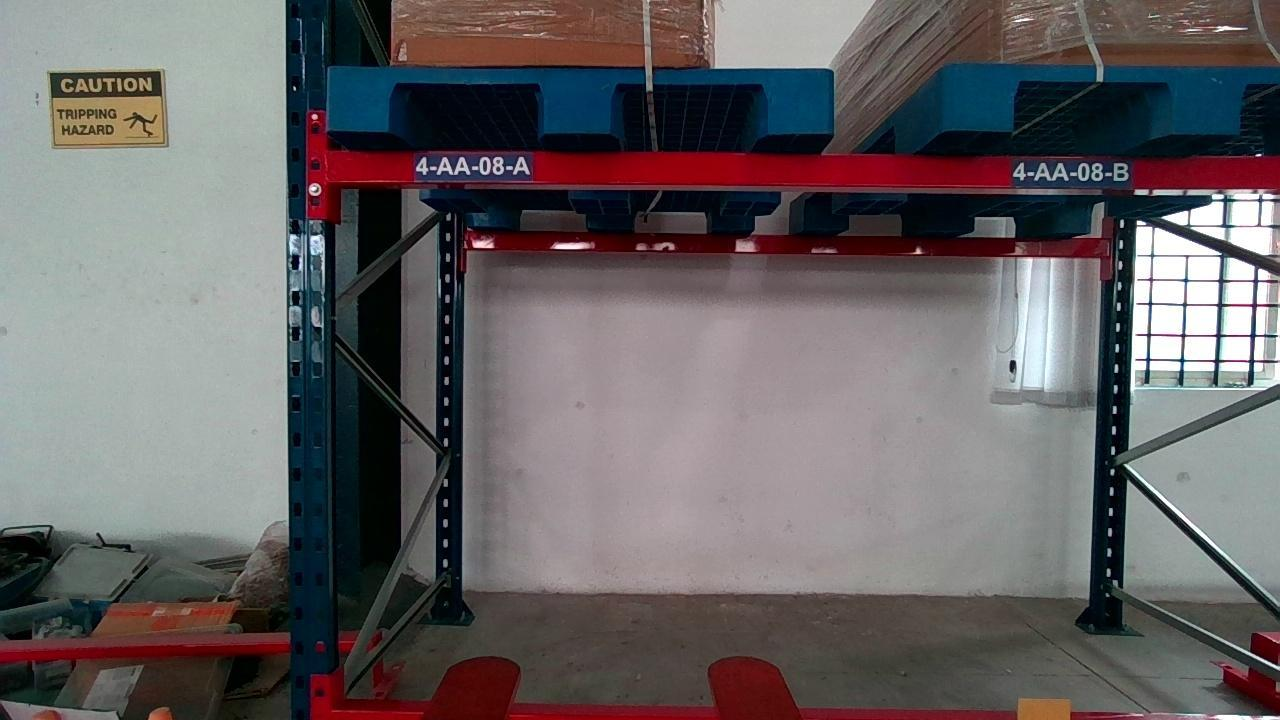h_rack: (327, 150, 1277, 189)
small_pallet: (327, 61, 831, 139), (944, 61, 1280, 135)
